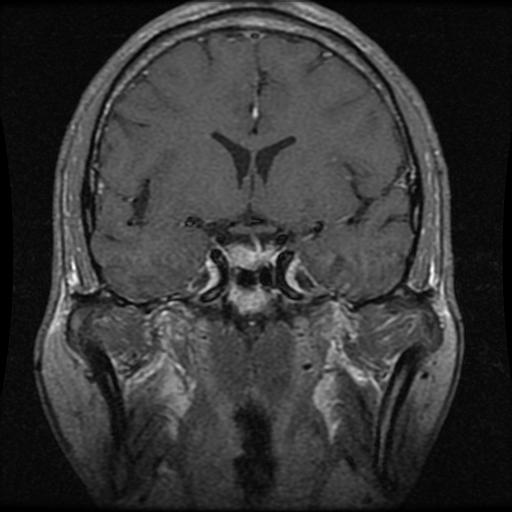Pituirity_tumour: (227, 245, 276, 267)
